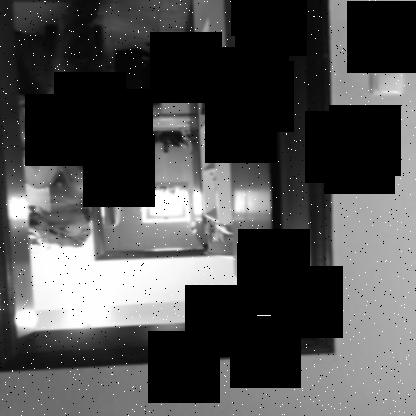Porte: (0, 1, 338, 374), (79, 17, 213, 268)
